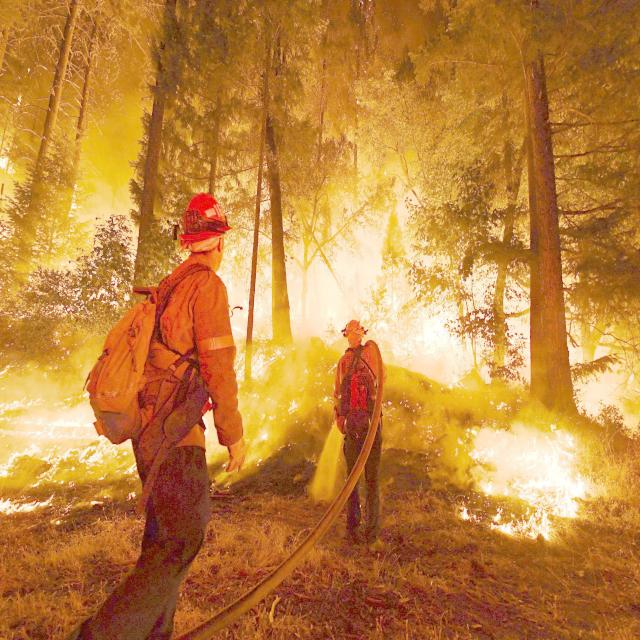api: (518, 429, 588, 544), (415, 317, 457, 367), (3, 442, 45, 479), (1, 497, 53, 526), (41, 419, 92, 444), (497, 509, 522, 548), (475, 445, 499, 464), (482, 476, 494, 499)
